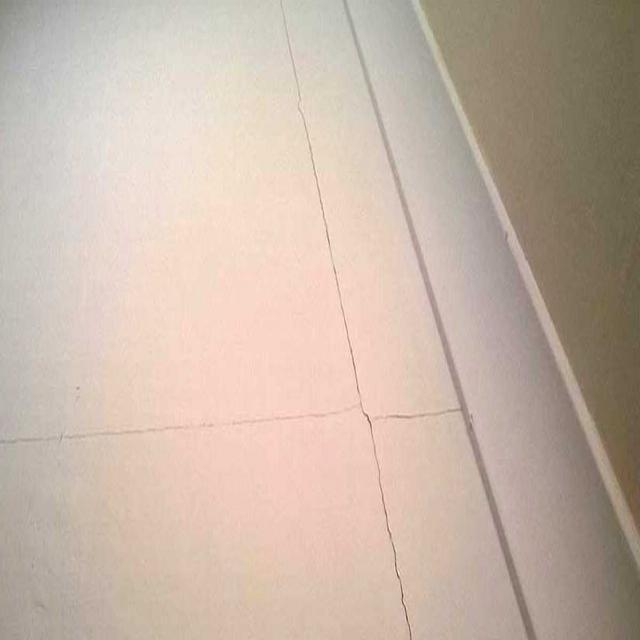Crack: (278, 0, 366, 402), (0, 401, 363, 445), (360, 407, 411, 640), (369, 406, 465, 424)
